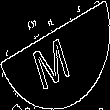M_NW: (33, 23, 77, 87)
